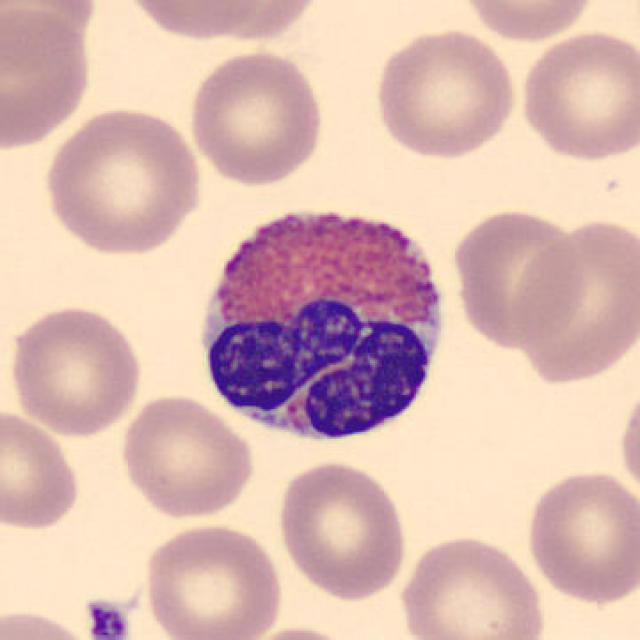Eosinophil: (185, 185, 460, 457)
Platelets: (82, 596, 132, 640)
RBC: (39, 104, 206, 257), (510, 215, 638, 388), (370, 25, 521, 162), (448, 205, 588, 352), (185, 45, 327, 188), (274, 457, 411, 603), (5, 301, 146, 439), (115, 391, 258, 522), (139, 520, 286, 640), (394, 530, 549, 640), (516, 26, 638, 164), (523, 466, 638, 606), (0, 5, 98, 154), (0, 406, 84, 534), (0, 0, 101, 69), (187, 0, 331, 46), (455, 0, 603, 44), (115, 0, 268, 42), (0, 604, 101, 640), (615, 374, 640, 504), (234, 622, 364, 640)
